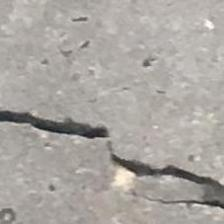Crack: (0, 94, 224, 224)
